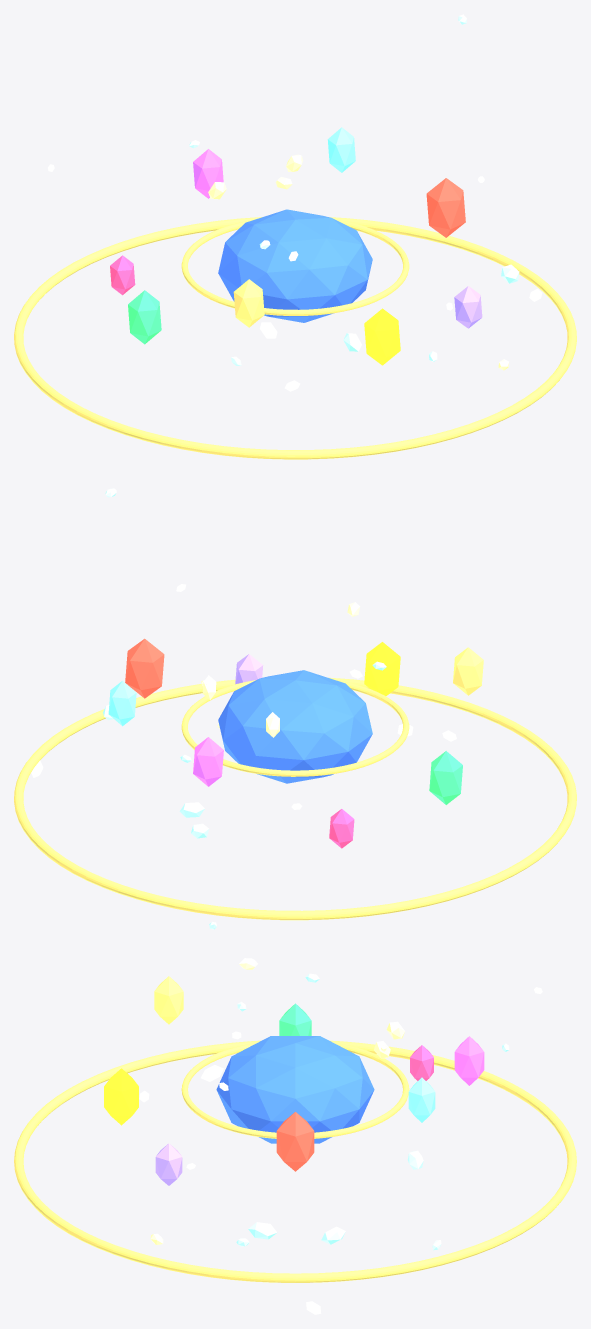
Rendered from gem_scene.glb.
3 views of the same model, one above another, from view 1: azimuth 30°, elevation 25°; view 2: azimuth 150°, elevation 25°; view 3: azimuth 270°, elevation 25° (orthographic).
Parts seen in each view (by area): view 1: HeroGem, PedestalRing, InnerRing, Ruby, Topaz, Emerald, Citrine, Amethyst, Aquamarine, Tanzanite, Garnet; view 2: HeroGem, PedestalRing, InnerRing, Ruby, Topaz, Emerald, Amethyst, Citrine, Aquamarine, Garnet, Tanzanite; view 3: HeroGem, PedestalRing, InnerRing, Ruby, Topaz, Amethyst, Citrine, Aquamarine, Tanzanite, Emerald, Garnet.
Part boxes in pixels (x1=…): HeroGem: x1=218, y1=209, x2=372, y2=322; PedestalRing: x1=14, y1=217, x2=576, y2=459; InnerRing: x1=181, y1=219, x2=409, y2=315; Ruby: x1=426, y1=178, x2=465, y2=237; Topaz: x1=364, y1=308, x2=400, y2=365; Emerald: x1=128, y1=290, x2=161, y2=344; Citrine: x1=233, y1=279, x2=264, y2=327; Amethyst: x1=193, y1=149, x2=223, y2=198; Aquamarine: x1=327, y1=127, x2=355, y2=172; Tanzanite: x1=454, y1=286, x2=482, y2=328; Garnet: x1=110, y1=255, x2=135, y2=295; HeroGem: x1=218, y1=670, x2=372, y2=783; PedestalRing: x1=14, y1=677, x2=576, y2=920; InnerRing: x1=181, y1=680, x2=409, y2=776; Ruby: x1=125, y1=638, x2=164, y2=698; Topaz: x1=364, y1=642, x2=400, y2=695; Emerald: x1=429, y1=751, x2=462, y2=804; Amethyst: x1=193, y1=737, x2=223, y2=786; Citrine: x1=453, y1=647, x2=483, y2=695; Aquamarine: x1=108, y1=680, x2=136, y2=726; Garnet: x1=329, y1=809, x2=354, y2=848; Tanzanite: x1=235, y1=654, x2=263, y2=684; HeroGem: x1=216, y1=1036, x2=374, y2=1143; PedestalRing: x1=14, y1=1040, x2=576, y2=1282; InnerRing: x1=181, y1=1042, x2=409, y2=1138; Ruby: x1=276, y1=1112, x2=314, y2=1171; Topaz: x1=104, y1=1068, x2=138, y2=1125; Amethyst: x1=454, y1=1036, x2=484, y2=1085; Citrine: x1=154, y1=976, x2=183, y2=1024; Aquamarine: x1=408, y1=1077, x2=435, y2=1122; Tanzanite: x1=155, y1=1143, x2=182, y2=1185; Emerald: x1=279, y1=1003, x2=311, y2=1035; Garnet: x1=410, y1=1045, x2=433, y2=1080.
Bounding box in the file's own units: 7.28 × 4.96 × 7.12.
